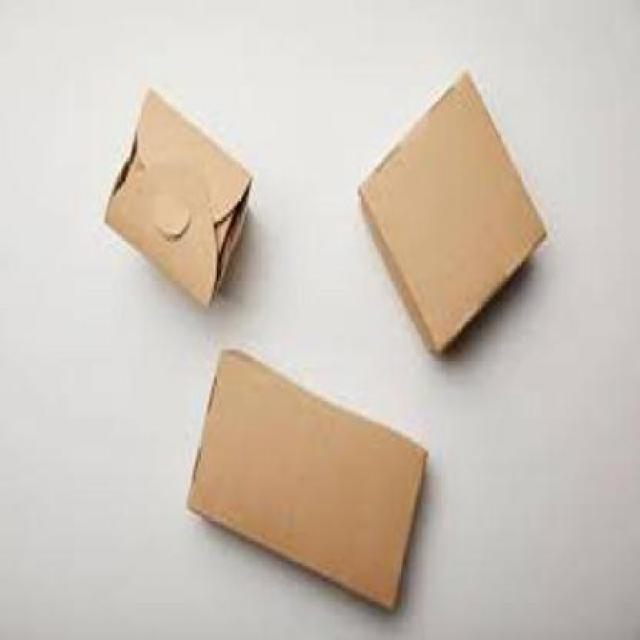normal: (182, 346, 446, 617), (348, 72, 554, 360), (95, 84, 260, 318)
